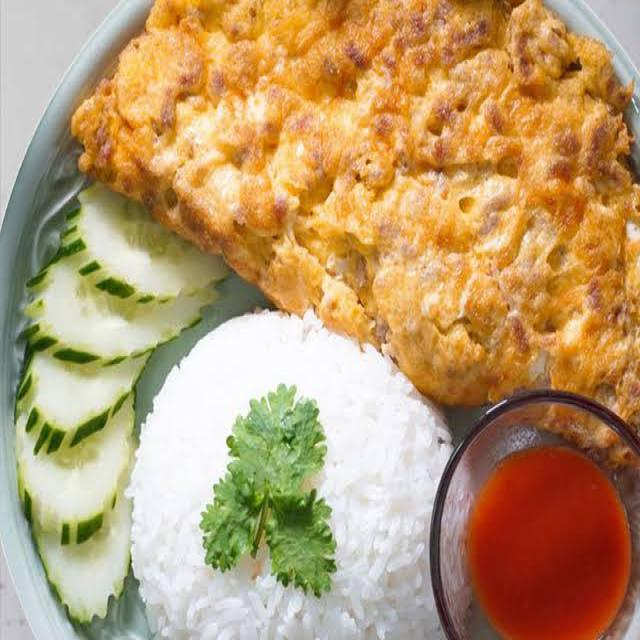carb: (116, 317, 467, 629)
meat: (153, 0, 640, 381)
omelette rice: (48, 28, 613, 625)
vegetable: (15, 158, 150, 590)
